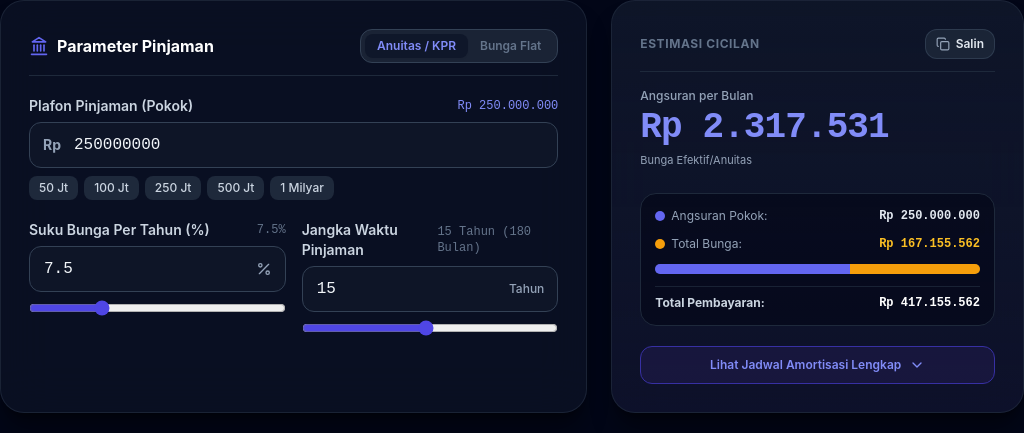
Scenario: FinancialCalculator Component Suite › LoanCalculator › calculates monthly mortgage installment and supports preset amounts
Expected: the text "Angsuran per Bulan" is shown, [640,88,753,103]
Click the button "100 Jt": [112, 188] box [84,176,139,200]
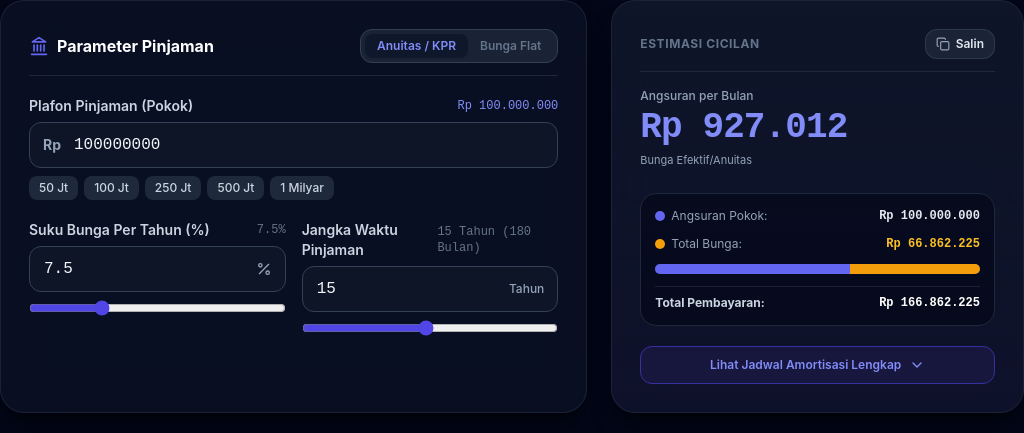
Result: the text "Rp 100.000.000" in the row of "Plafon Pinjaman (Pokok)" is shown at [458,99,558,113]
